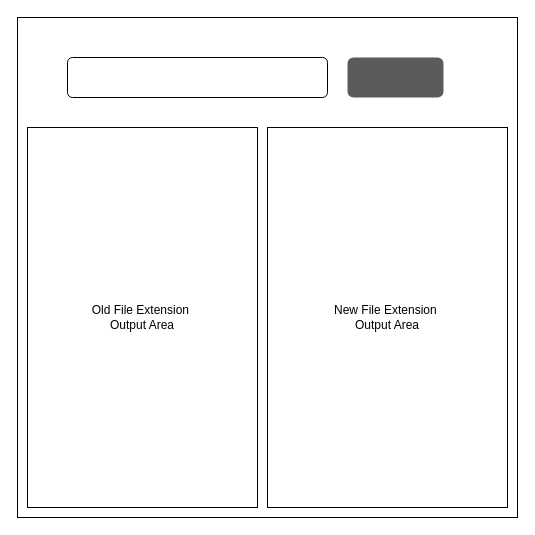
Image size: 535x535. Some labels were removed from this diagram. Each missing label, with the centre of its shape:
"Folder Path Input Here..." belongs at point 197,77.
"Get Folder Button" belongs at point 395,77.
